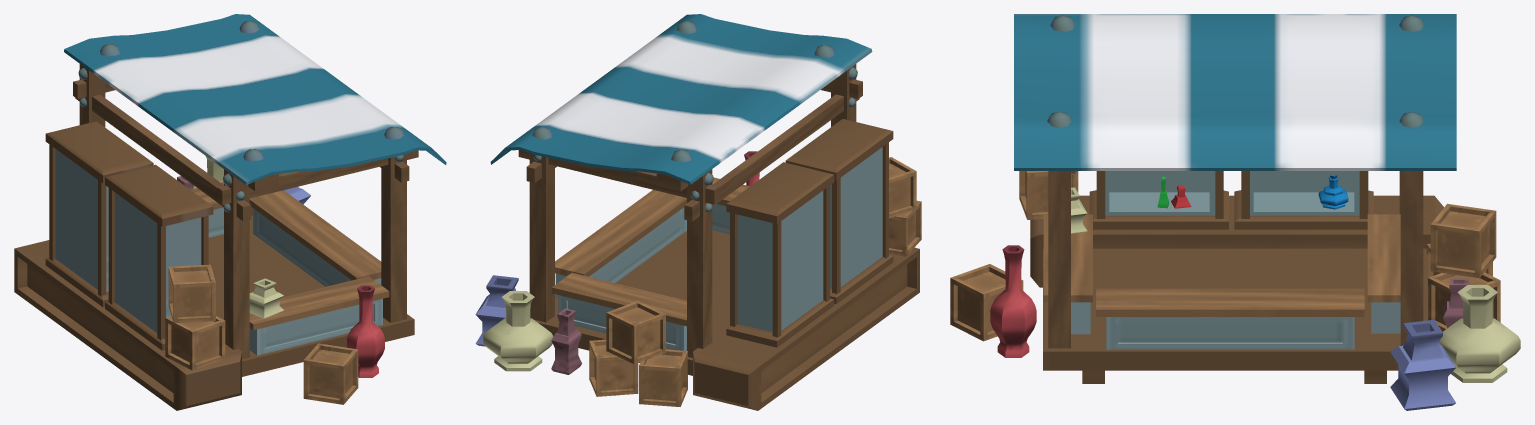
The picture shows the model from 3 angles, left to right: view 1: azimuth 30°, elevation 25°; view 2: azimuth 150°, elevation 25°; view 3: azimuth 270°, elevation 25°; orthographic projection. The views are drawn at different scales.
Parts seen in each view (by area): view 1: Mercado_0; view 2: Mercado_0; view 3: Mercado_0.
Part boxes in pixels (x1,y1,x2,y2): Mercado_0: [14, 14, 446, 410]; Mercado_0: [475, 14, 921, 410]; Mercado_0: [950, 14, 1520, 410].
Bounding box in the file's own units: 2.57 × 2.02 × 3.67.
1 material, 1 textured.
